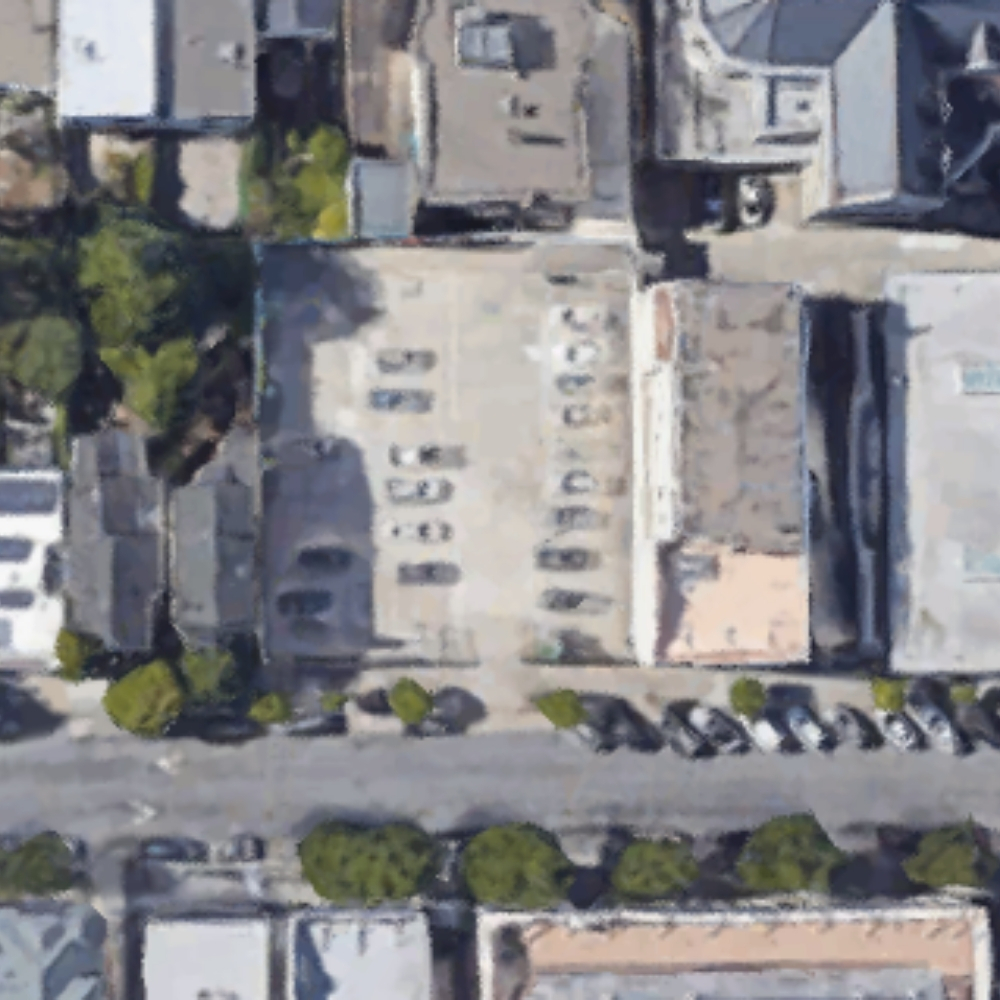parking: (260, 245, 640, 665)
